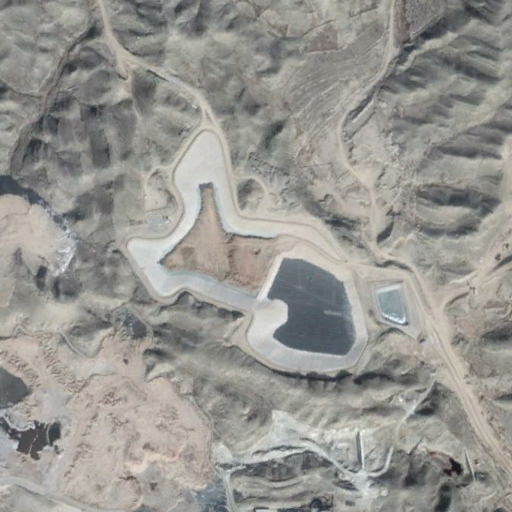lf: (128, 127, 369, 370)
